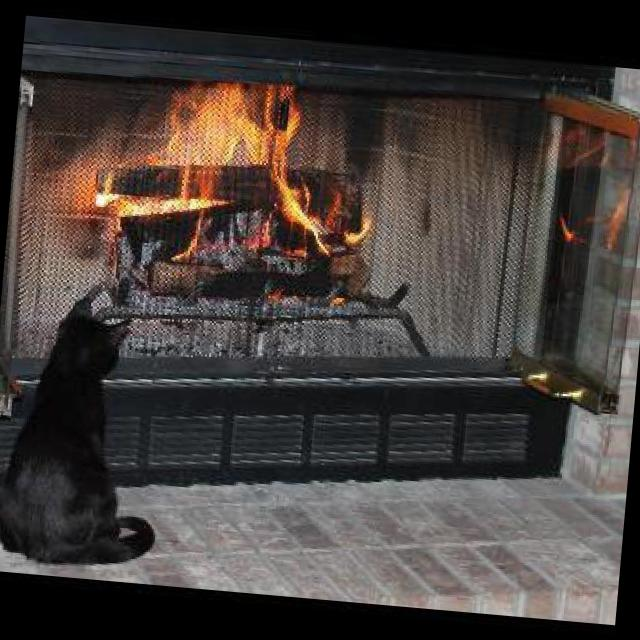Fire: (94, 63, 384, 308)
